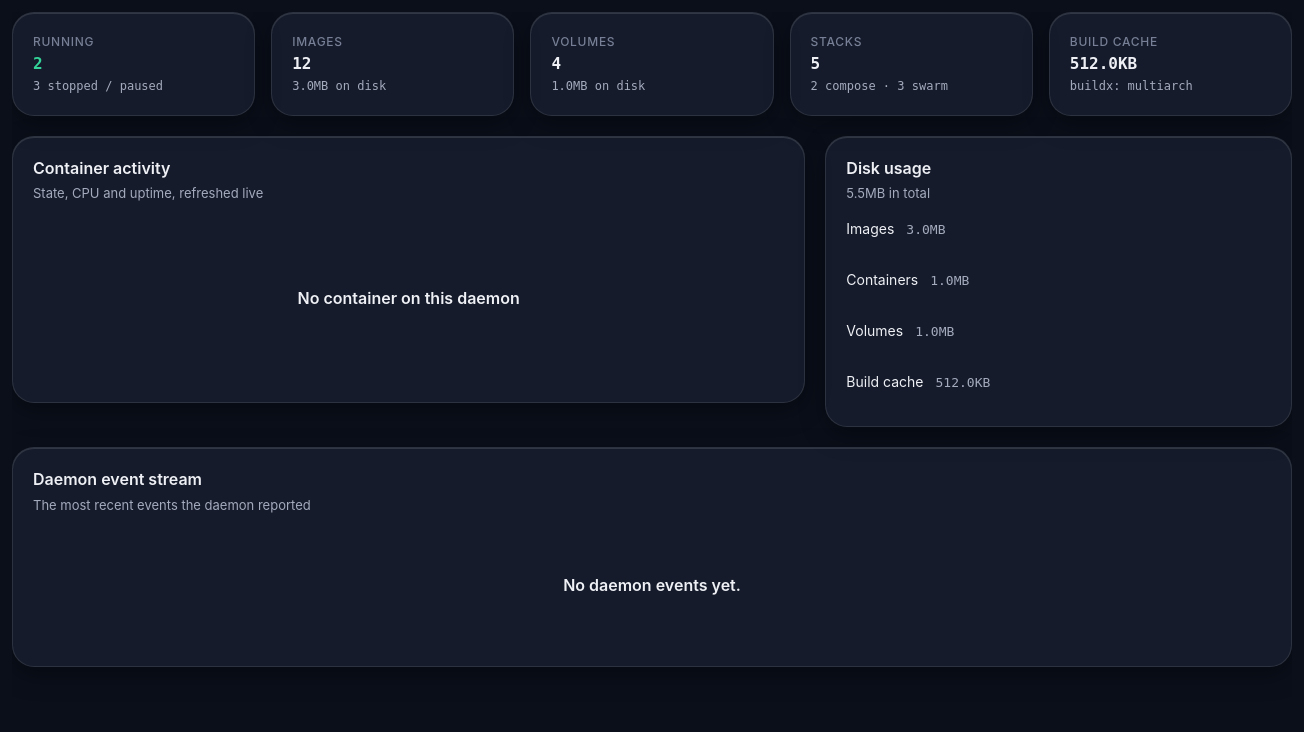
Test: DashboardScreen — where a tile or a row leads (plan-docker_management_app/REQ-18) › activating the tile named Running containers — open the Containers screen navigates to its screen
Click the button with aria-label "Running containers — open the Containers screen" at (134,64), box [12,12,255,116]
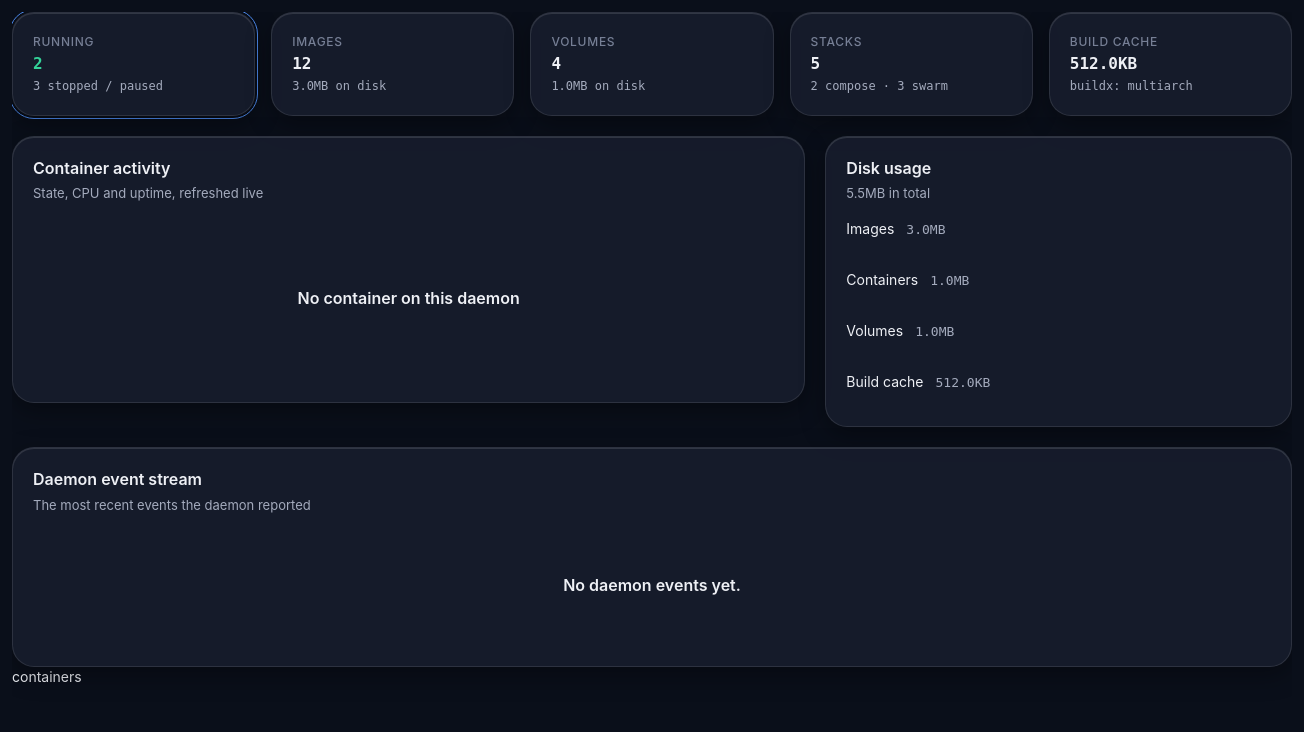
Expected: the text with test id "navigation" reads "containers", [12,668,82,685]
